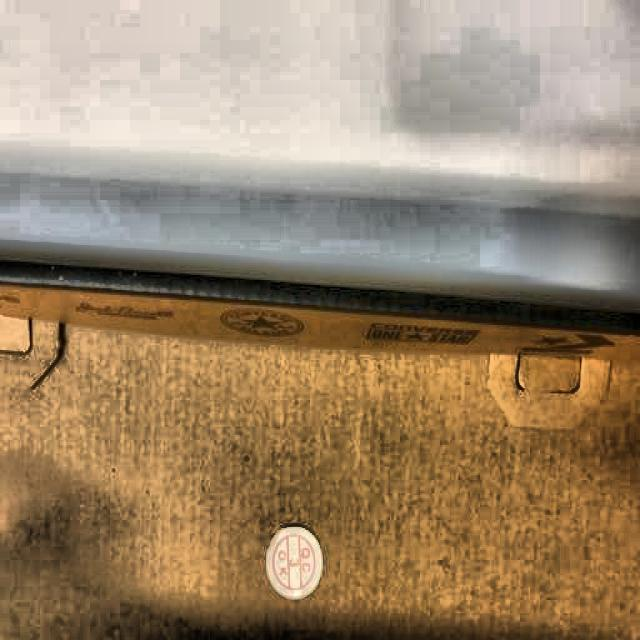cardboard: (1, 246, 640, 640)
